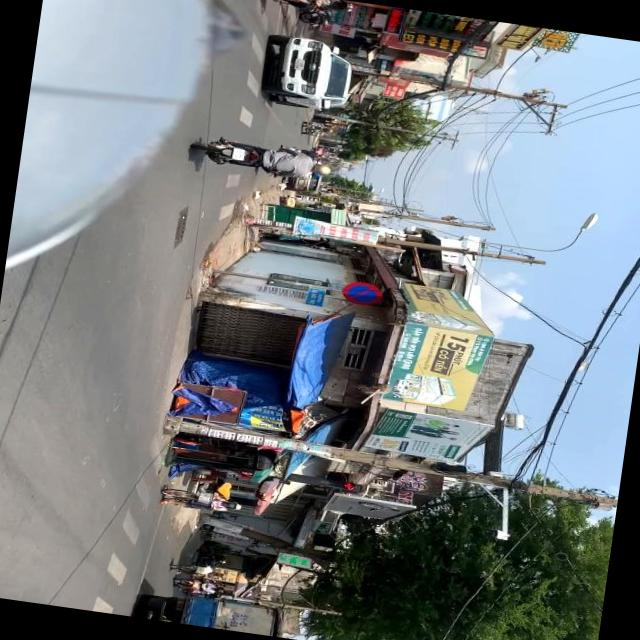P-131a: (340, 280, 383, 308)
